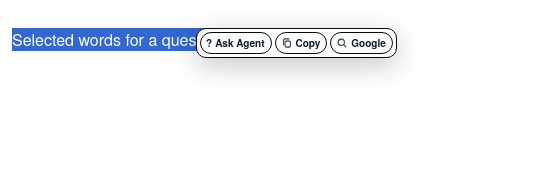
Test: shows no continuation when the failed selection has no usable text
The width and height of the screenshot is (533, 172).
Step 1. Click the menu item "? Ask Agent" → x=236, y=43, box [200,32,272,54]
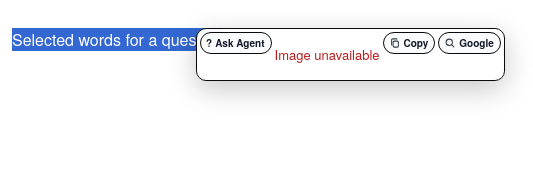
Check: the message "Image unavailable" is shown, box [274,45,380,64]
